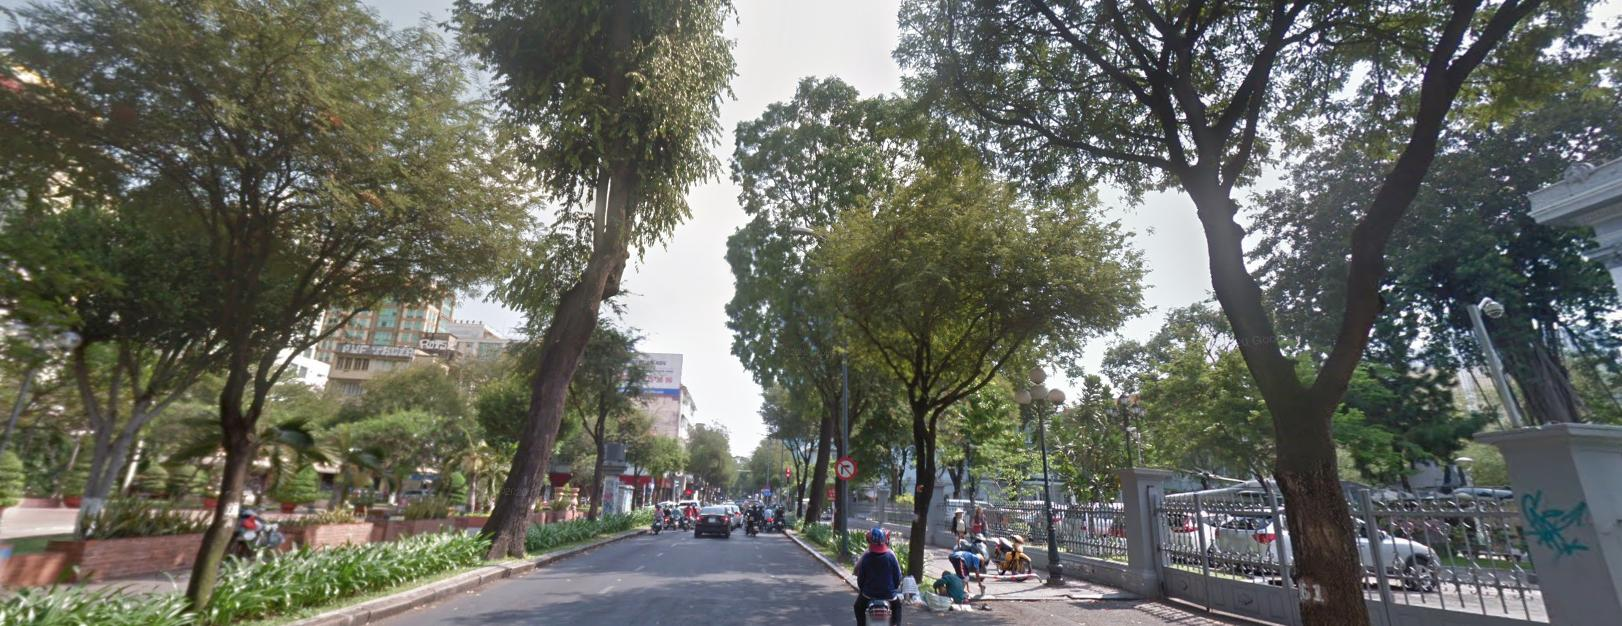Cam dung va do: (764, 482, 771, 487)
Cam re: (833, 456, 857, 479)
